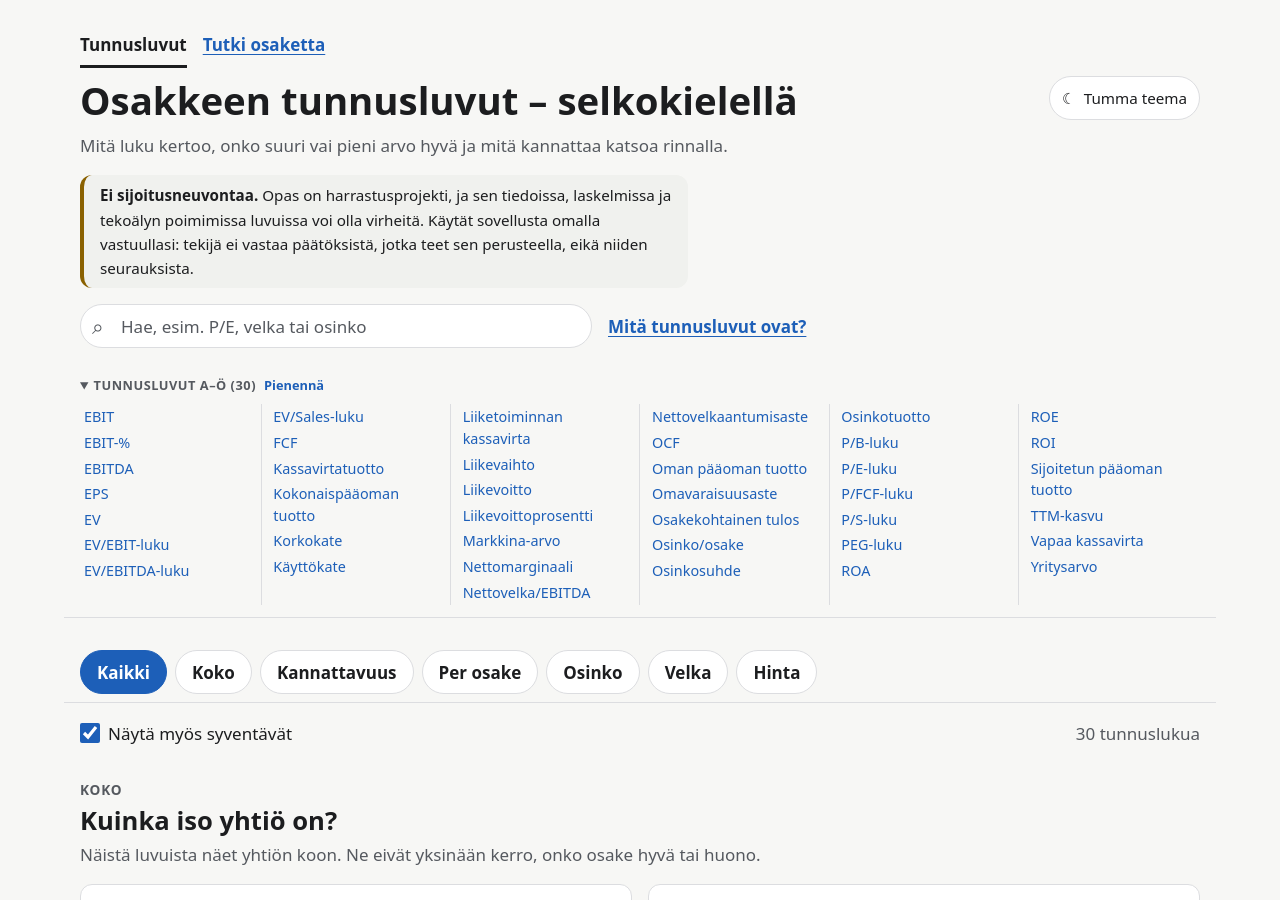
Scenario: Sisällysluettelo › väistyy haun ajaksi
The image size is (1280, 900).
Step 1. Type "velka" into the search field → x=336, y=326, box [80,304,592,348]
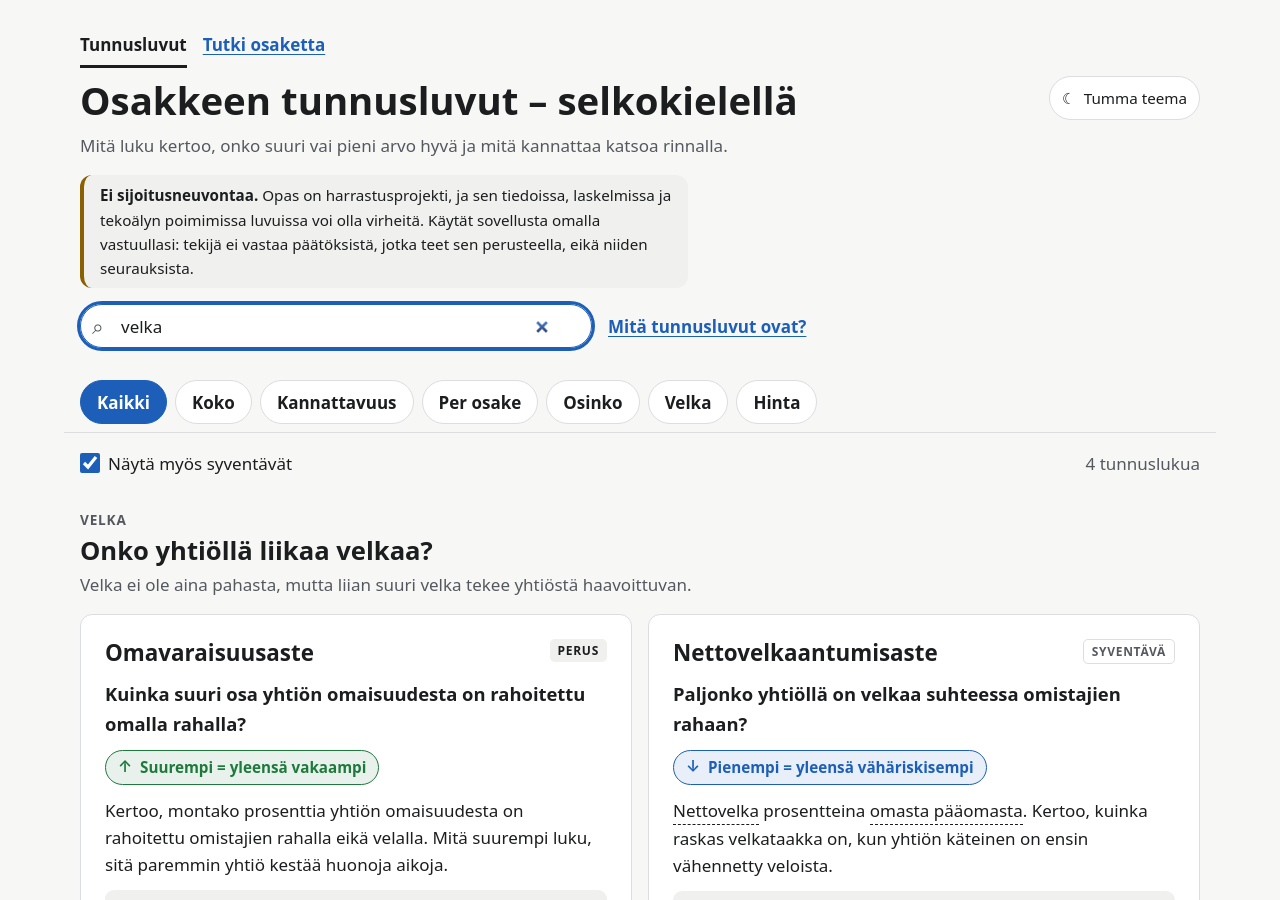
Expected: the heading "Tunnusluvut A–Ö" is gone
